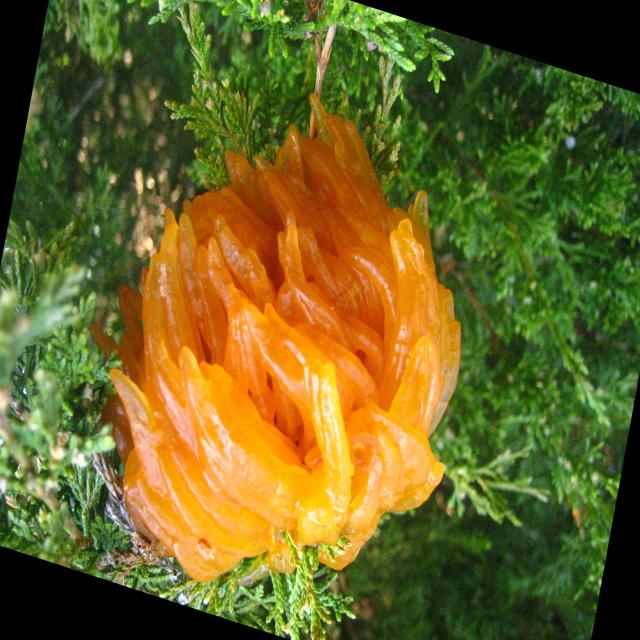Gymnosporangium_Rusts: (94, 93, 463, 586)
